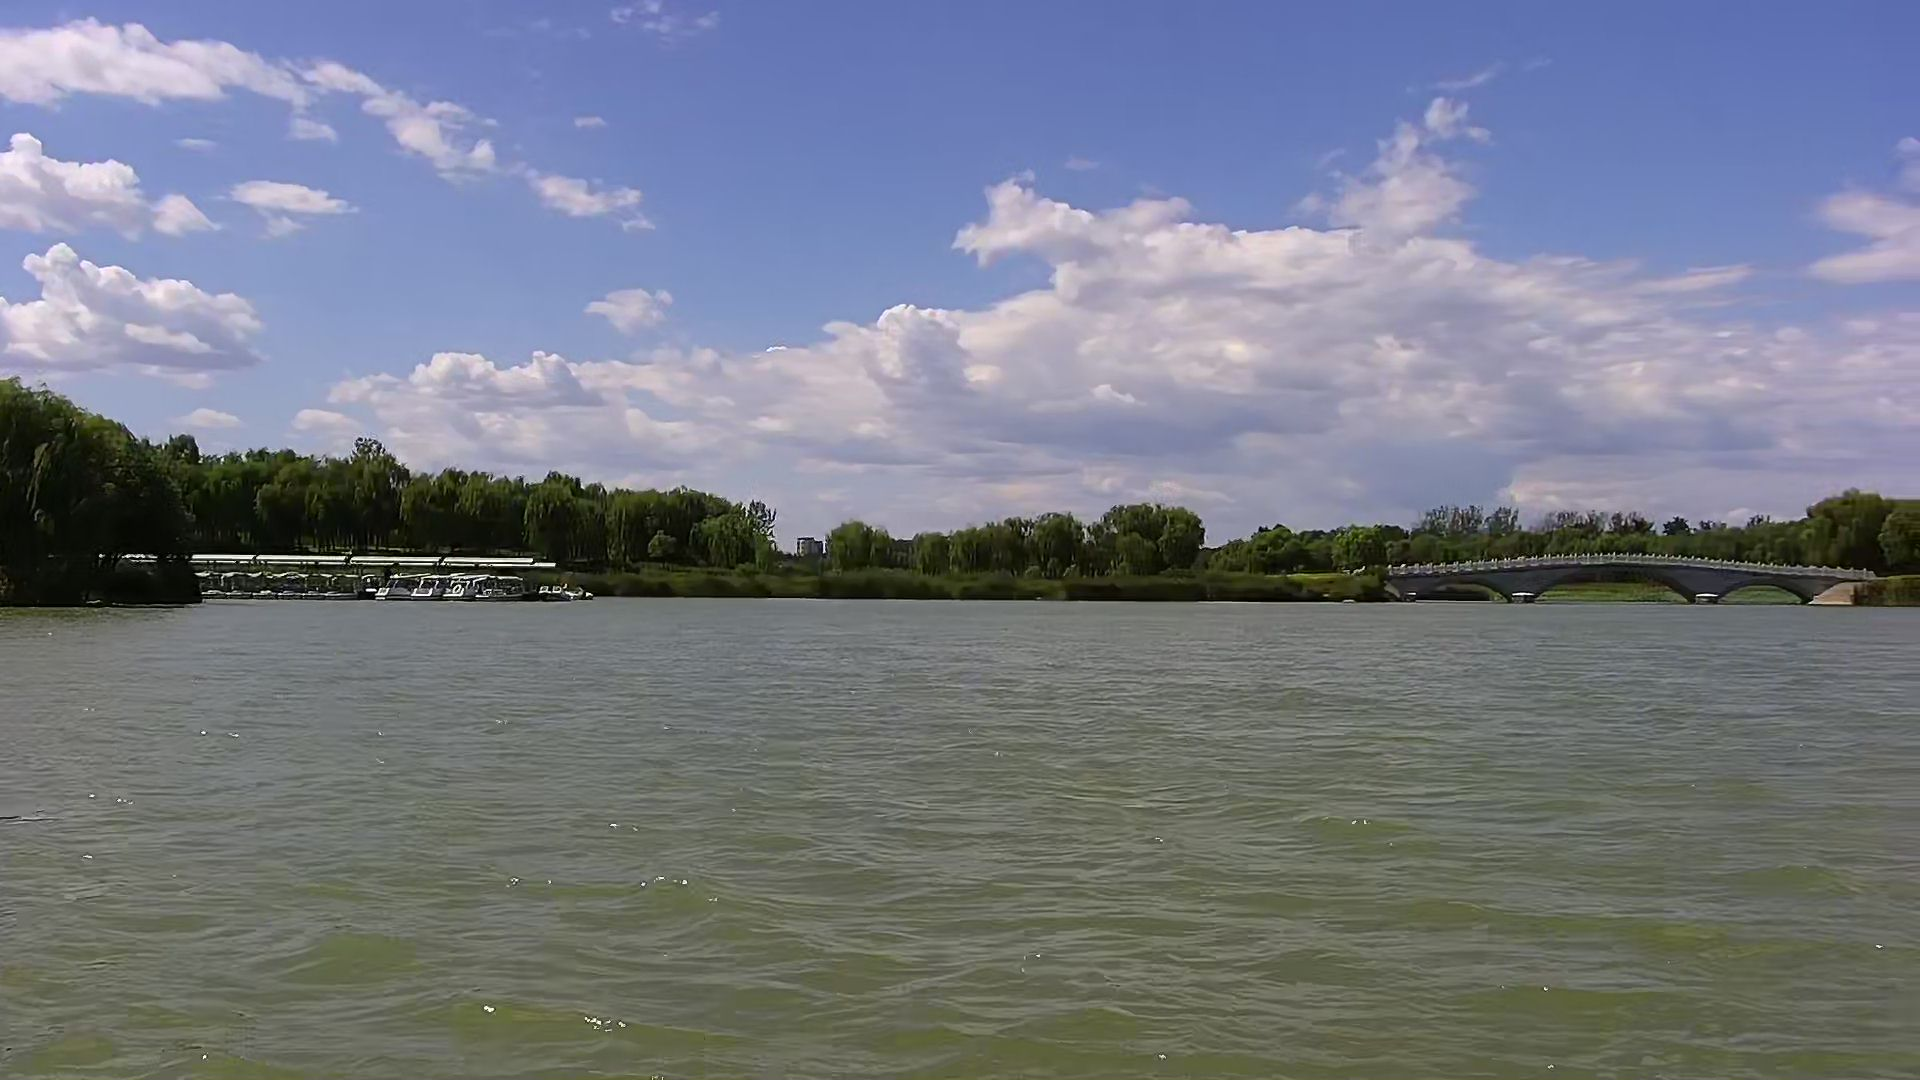bridge: (1373, 559, 1882, 603)
harbor: (193, 553, 592, 607)
